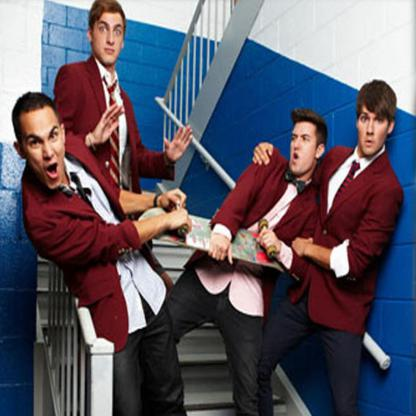face: (20, 109, 66, 190), (358, 99, 390, 155), (95, 14, 123, 65), (290, 124, 317, 175)
